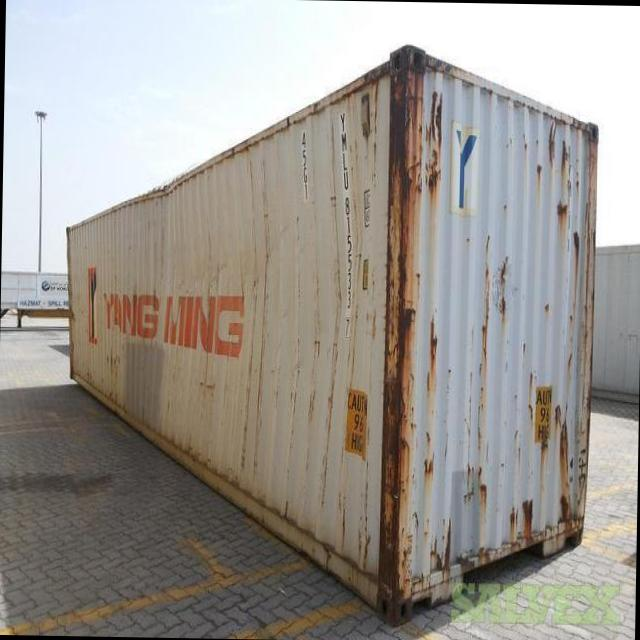Deframe_or_Dent: (250, 69, 377, 559), (122, 163, 206, 211)
Rust: (378, 46, 420, 614), (470, 235, 510, 506), (529, 117, 582, 235), (548, 391, 586, 527), (439, 518, 482, 568), (424, 90, 443, 195), (503, 494, 534, 542)
